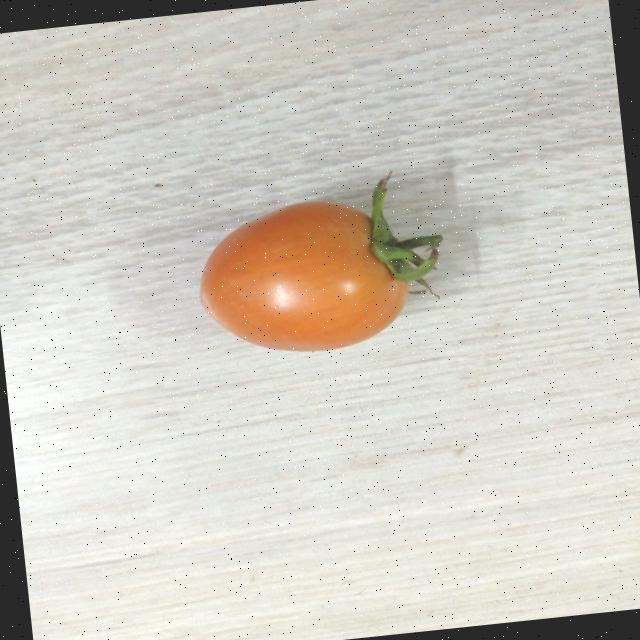Tomato: (187, 162, 466, 364)
